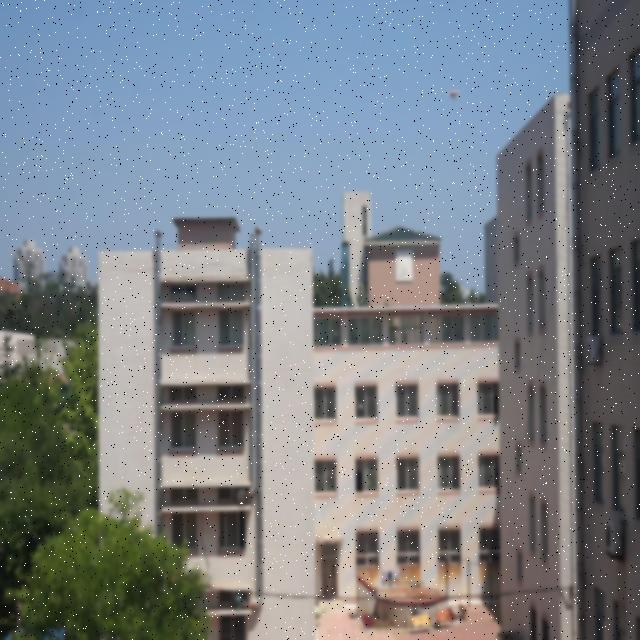UAV: (446, 90, 461, 100)
